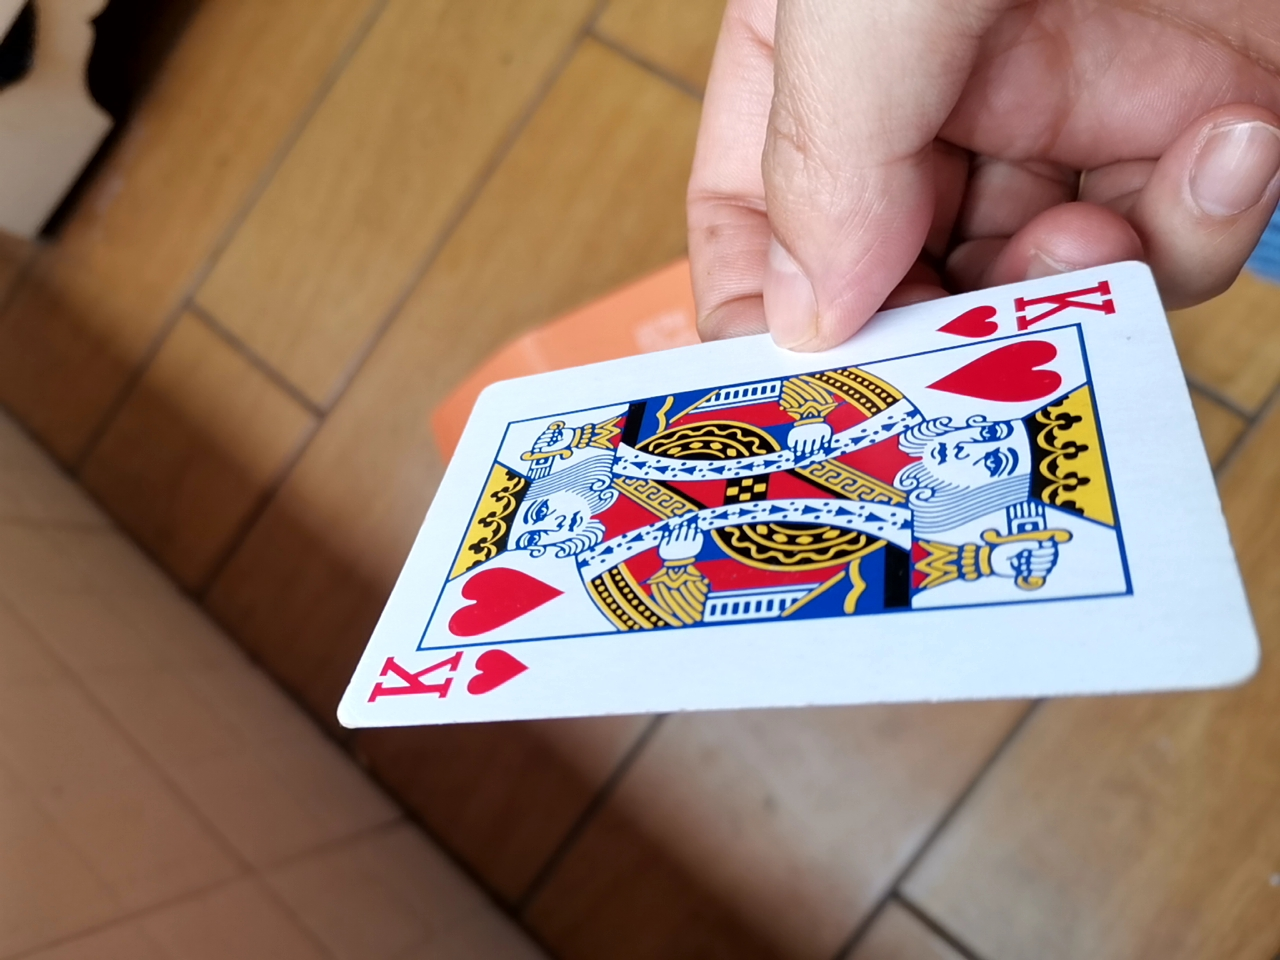hx k: (316, 279, 1249, 724)
